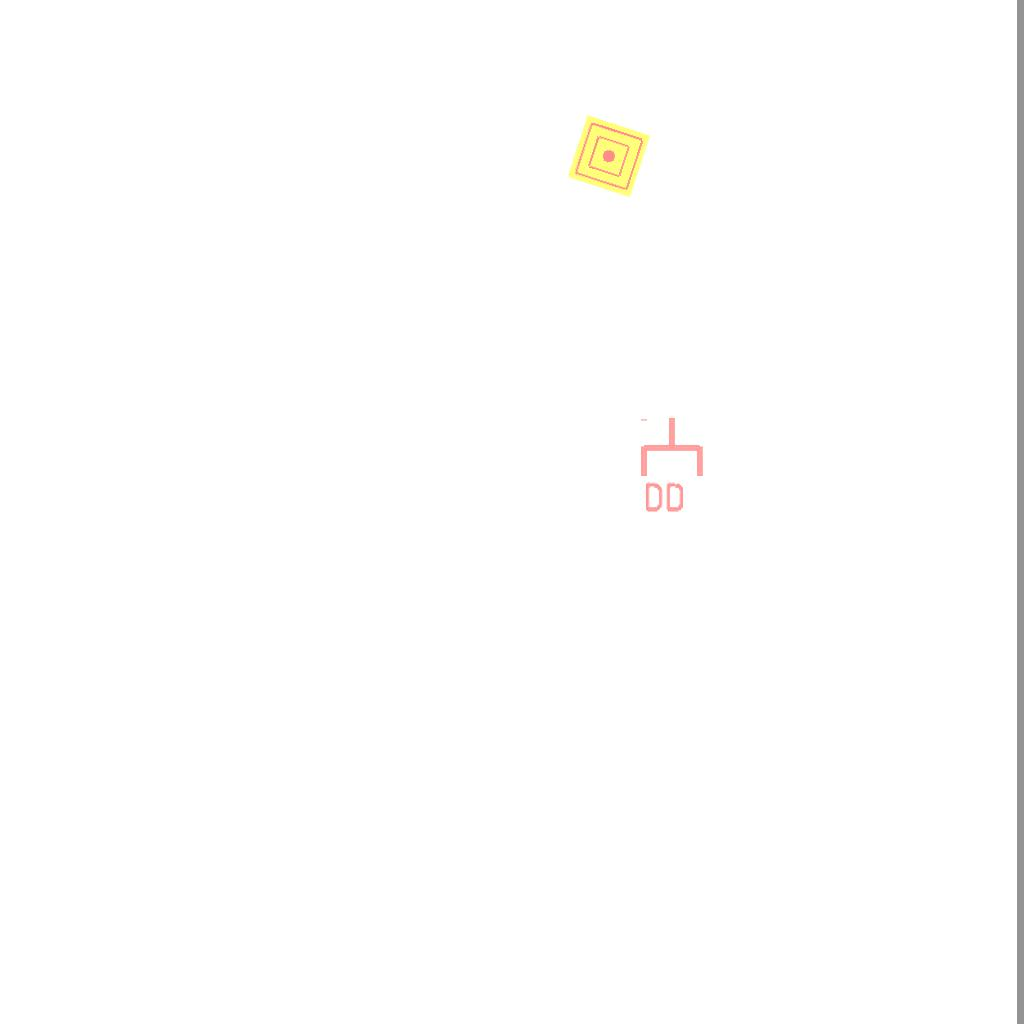Datenanschluss_zweifach: (639, 414, 708, 517)
NAM-Nichtautomatischer_Melder: (567, 114, 651, 198)
